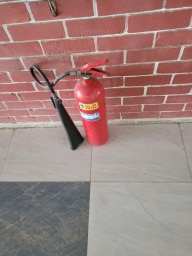fire_extinguisher: (44, 108, 113, 216)
